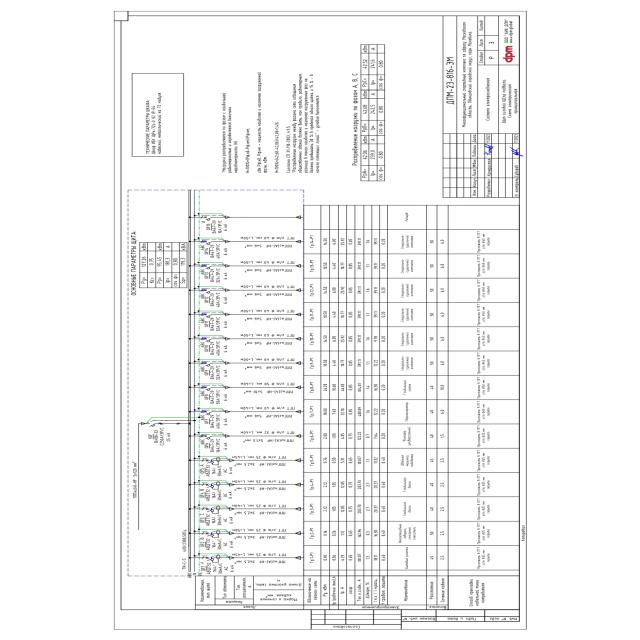-: (205, 464, 233, 477), (206, 562, 234, 575), (206, 488, 233, 501), (206, 513, 233, 526), (206, 537, 233, 550), (154, 427, 171, 446), (210, 243, 229, 259), (210, 365, 228, 381), (210, 292, 228, 308), (210, 390, 229, 405), (211, 413, 228, 429), (210, 316, 227, 332), (210, 268, 228, 283), (210, 341, 228, 356), (210, 439, 228, 452), (212, 220, 228, 234)
QF: (148, 422, 164, 427), (200, 288, 213, 294), (200, 264, 213, 270), (200, 385, 213, 391), (200, 312, 213, 318), (200, 240, 213, 246), (200, 409, 213, 415), (200, 434, 212, 440), (199, 216, 213, 221), (200, 337, 213, 342), (200, 361, 213, 366)
QFD: (201, 554, 221, 564), (201, 457, 221, 466), (201, 505, 221, 514), (201, 481, 220, 490), (201, 530, 221, 538)
